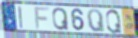6: (71, 8, 86, 32)
F: (34, 7, 51, 30)
I: (17, 5, 24, 30)
Q: (87, 9, 107, 34), (105, 9, 123, 35), (52, 7, 70, 32)
